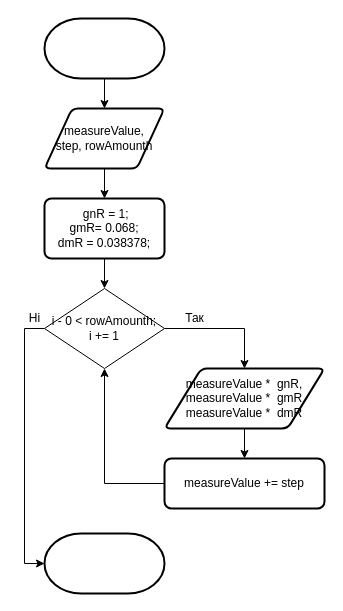
Image size: 343x611. Some labels were removed from this diagram. The shapes that lost their labels are listed below. From the top down, each one's centre as x and y in pixels, then its label:
At [104,48]: "Початок".
At [104,563]: "Кінець".
